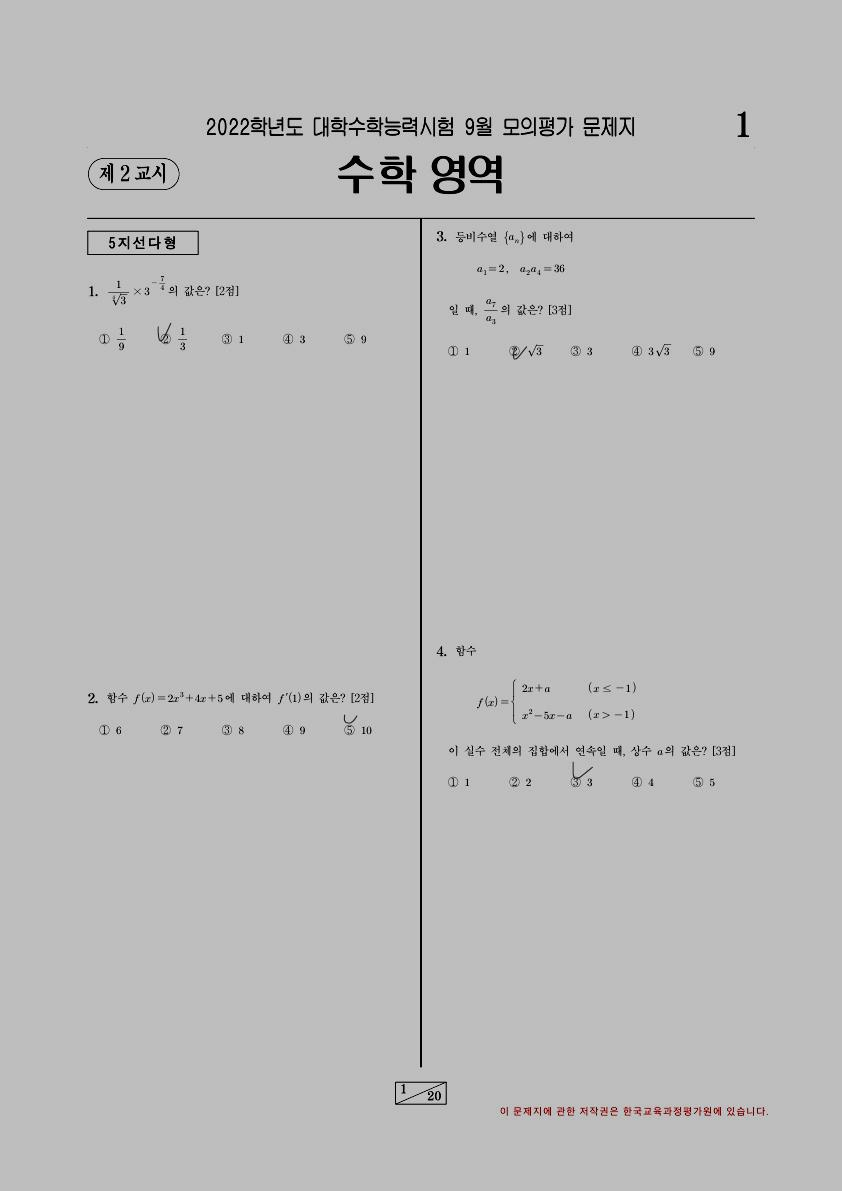question: (425, 637, 755, 809), (421, 217, 743, 380), (76, 268, 390, 376), (69, 682, 398, 753)
